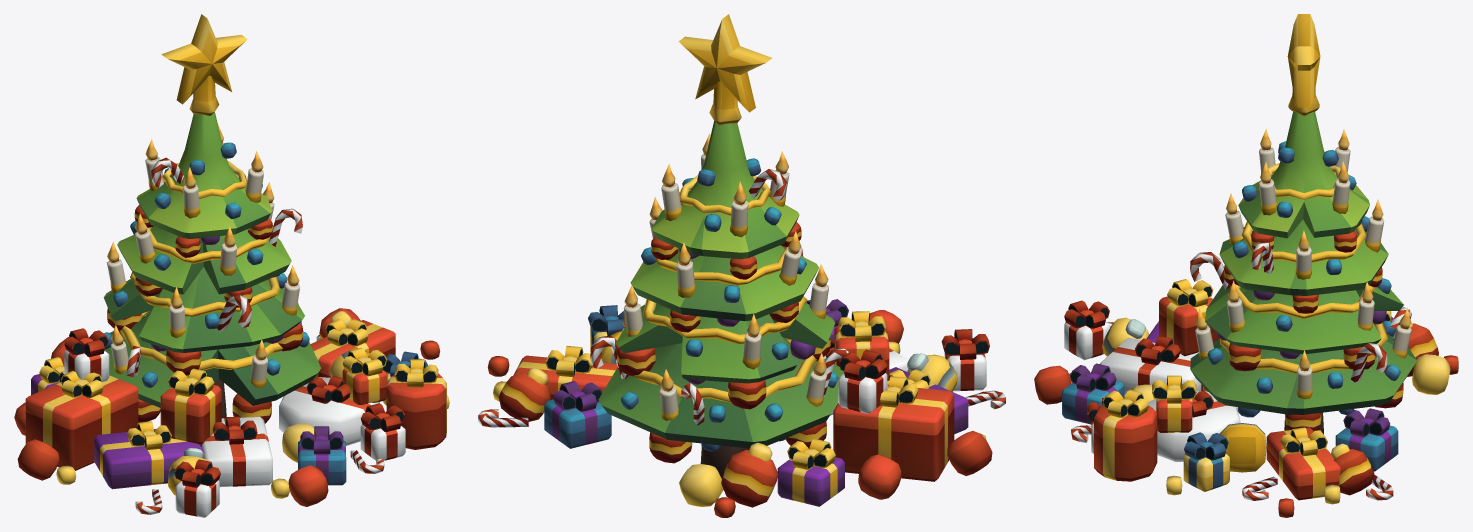
The model's file is C_Tree_02.glb.
3 views of the same model, side by side, from view 1: azimuth 30°, elevation 25°; view 2: azimuth 150°, elevation 25°; view 3: azimuth 270°, elevation 25° (orthographic). The views are drawn at different scales.
Visible parts, largest first — view 1: arrangement; view 2: arrangement; view 3: arrangement.
Boxes of the visible parts, x1,y1,x2,y2 form: arrangement: [14, 14, 449, 517]; arrangement: [478, 14, 1005, 517]; arrangement: [1034, 14, 1458, 517].
Size of the model in its own units: 788 by 741 by 654.
Materials: 1 (1 with a texture image).
